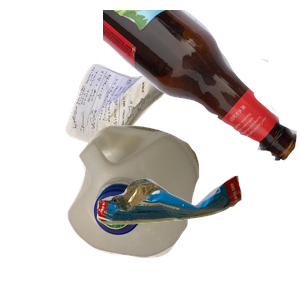glass: (103, 10, 300, 163)
paper: (63, 61, 242, 206)
plastic: (65, 123, 257, 300)
trash: (94, 173, 300, 300)
